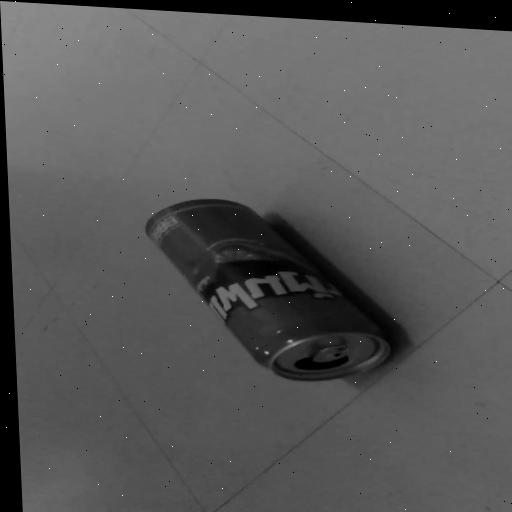canned: (118, 178, 420, 395)
